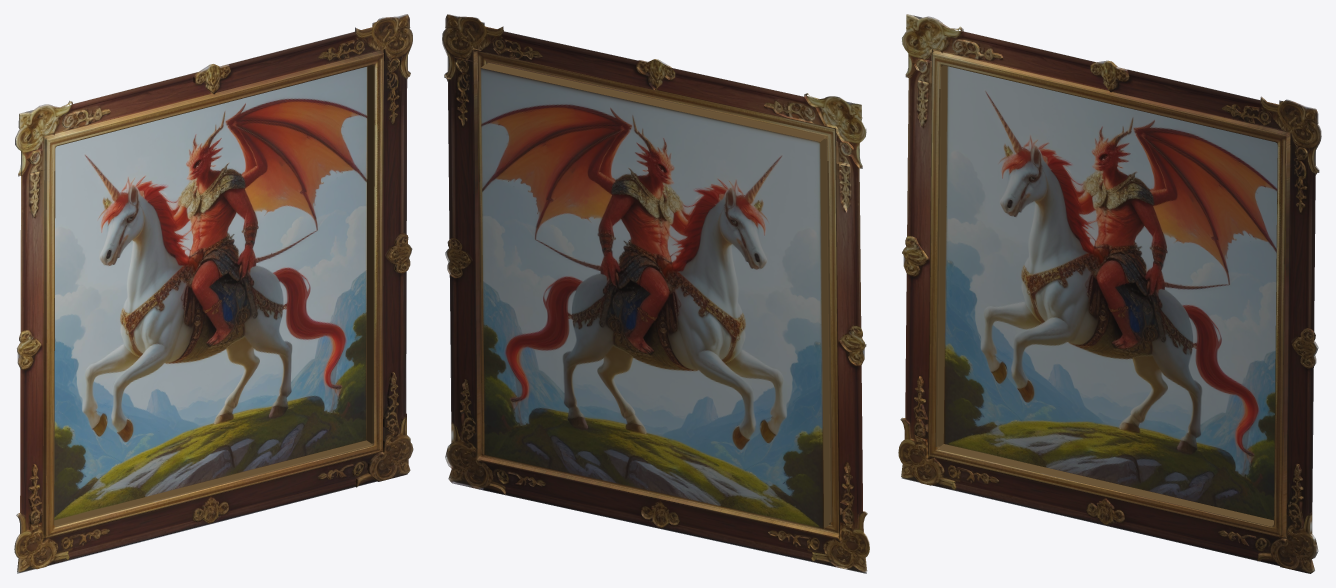
Rendered from beautiful_painting.glb.
3 renders of one model, left to right at view 1: azimuth 30°, elevation 25°; view 2: azimuth 150°, elevation 25°; view 3: azimuth 330°, elevation 25°, orthographic. The views are drawn at different scales.
Visible parts, largest first — view 1: Beautiful painting by Jungle Jim; view 2: Beautiful painting by Jungle Jim; view 3: Beautiful painting by Jungle Jim.
Part boxes in pixels (x1,y1,x2,y2): Beautiful painting by Jungle Jim: (14,14,413,573); Beautiful painting by Jungle Jim: (442,14,869,573); Beautiful painting by Jungle Jim: (898,14,1321,573).
Size of the model in its own units: 2.51 by 2.73 by 0.1584.
2 materials, 1 textured.
